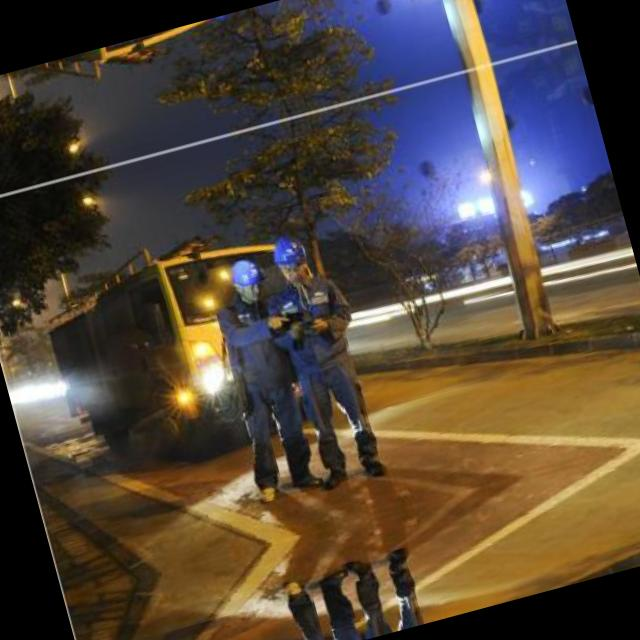helmet: (264, 228, 312, 286), (222, 254, 268, 302)
